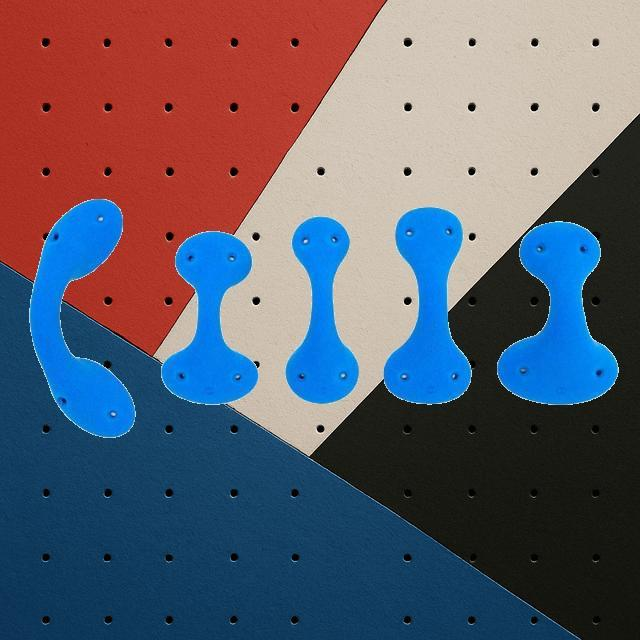Jug: (28, 198, 136, 438), (498, 220, 618, 404), (383, 206, 471, 404), (160, 230, 258, 404), (285, 216, 359, 404)
